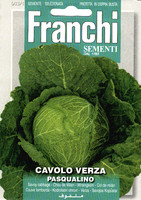cabbage: (1, 40, 140, 199)
